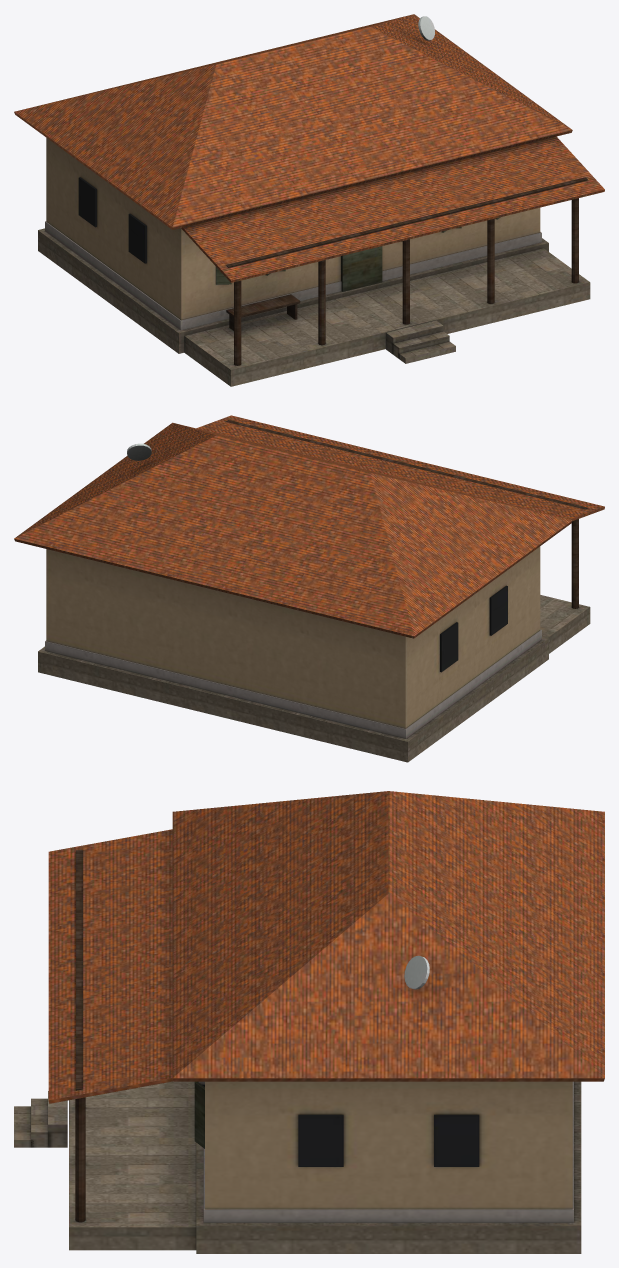
The model's file is farmhouse_b.glb.
The picture shows the model from 3 angles, top to bottom: view 1: azimuth 30°, elevation 25°; view 2: azimuth 150°, elevation 25°; view 3: azimuth 270°, elevation 25°; orthographic projection. The views are drawn at different scales.
Parts seen in each view (by area): view 1: farmhouse; view 2: farmhouse; view 3: farmhouse.
Boxes of the visible parts, box(x1,y1,x2,y2) form: farmhouse: box(14, 14, 604, 386); farmhouse: box(14, 415, 604, 762); farmhouse: box(14, 791, 604, 1253).
Size of the model in its own units: 11.14 by 5.63 by 10.45.
Materials: 1 (1 with a texture image).
